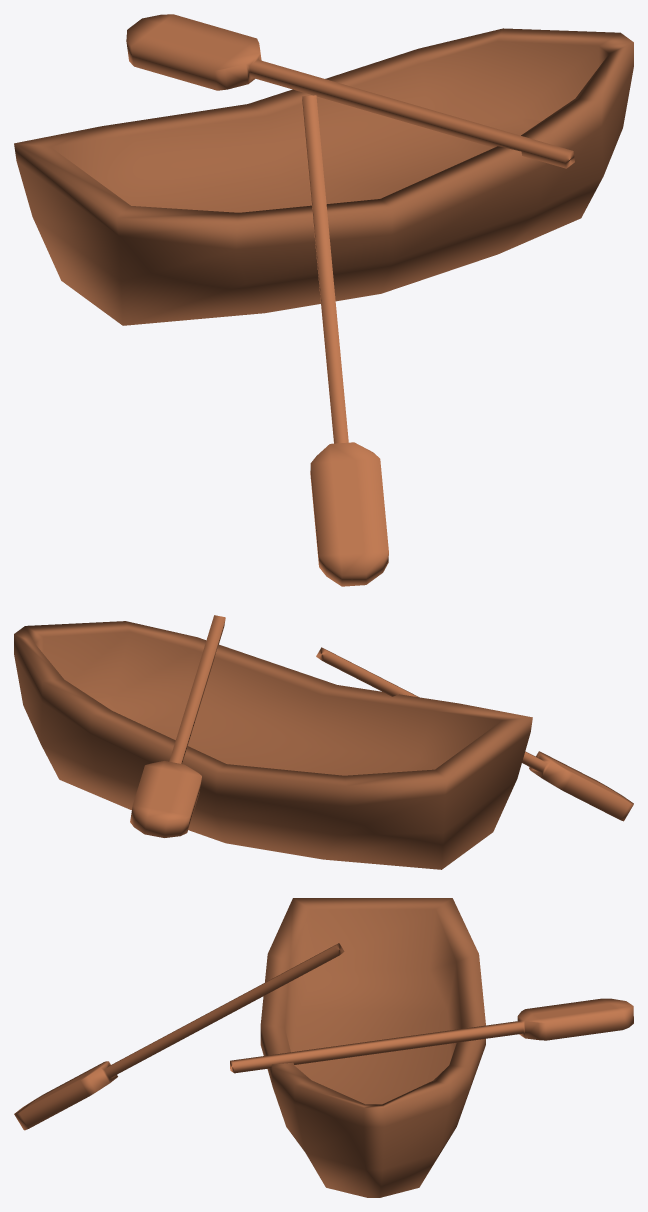
The model's file is Boat_5.fbx.
3 views of the same model, one above another, from view 1: azimuth 30°, elevation 25°; view 2: azimuth 150°, elevation 25°; view 3: azimuth 270°, elevation 25° (orthographic). The views are drawn at different scales.
Parts seen in each view (by area): view 1: Boat_5; view 2: Boat_5; view 3: Boat_5.
Part boxes in pixels (x1,y1,x2,y2): Boat_5: (14, 14, 633, 586); Boat_5: (14, 615, 633, 869); Boat_5: (14, 898, 633, 1197).
Bounding box in the file's own units: 290 × 152 × 354.
1 material, 1 textured.
